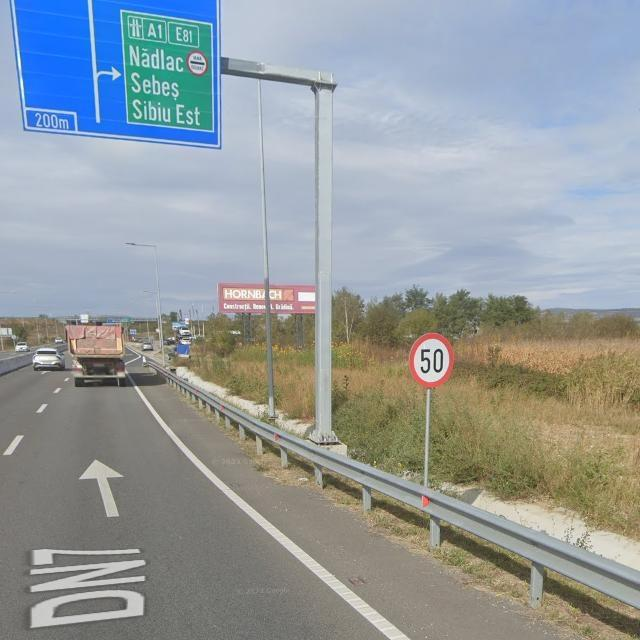forb_speed_over_50: (409, 333, 455, 388)
